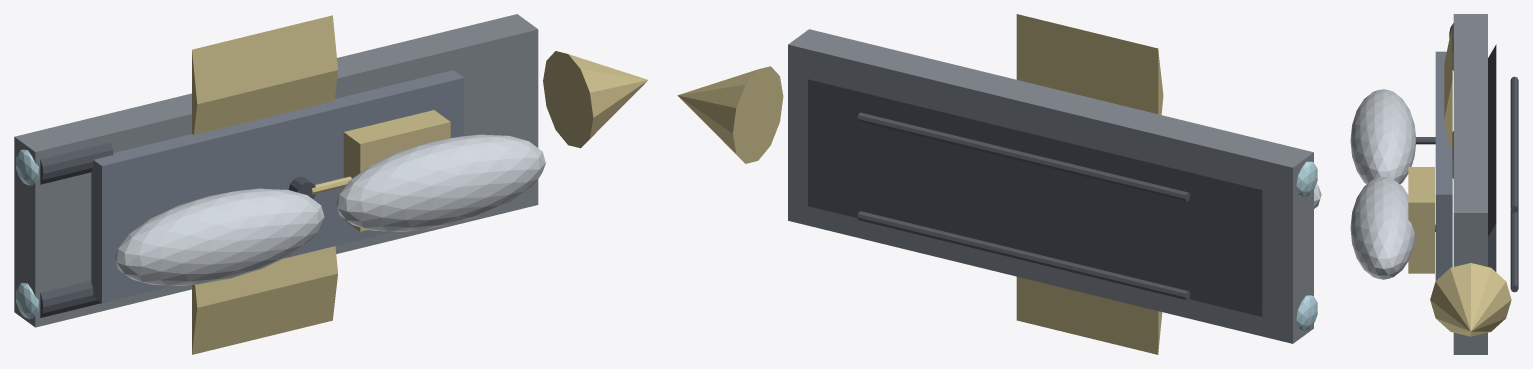
Rendered from SWS-003_dawn_courier.glb.
3 views of the same model, side by side, from view 1: azimuth 30°, elevation 25°; view 2: azimuth 150°, elevation 25°; view 3: azimuth 270°, elevation 25° (orthographic). The views are drawn at different scales.
Visible parts, largest first — view 1: main_hull, upper_deck, aether_lift_bladder_2, aether_lift_bladder_1, wing_1, wing_-1, aether_nose, bridge, engine_pod_1, engine_pod_-1, engine_glow_-1, engine_glow_1; view 2: keel, main_hull, wing_1, wing_-1, aether_nose, landing_skid_-1, landing_skid_1, engine_glow_-1, engine_glow_1; view 3: main_hull, aether_lift_bladder_2, aether_lift_bladder_1, aether_nose, upper_deck, bridge, keel, landing_skid_1, wing_1, landing_skid_-1, balloon_strut_1.
Part boxes in pixels (box(x1,y1,x2,y2)): main_hull: box(14, 14, 538, 327); upper_deck: box(91, 70, 463, 302); aether_lift_bladder_2: box(336, 134, 545, 231); aether_lift_bladder_1: box(115, 188, 324, 285); wing_1: box(192, 15, 337, 134); wing_-1: box(192, 246, 337, 354); aether_nose: box(543, 51, 647, 148); bridge: box(343, 110, 450, 231); engine_pod_1: box(40, 142, 113, 184); engine_pod_-1: box(40, 280, 105, 317); engine_glow_-1: box(16, 283, 38, 318); engine_glow_1: box(16, 149, 38, 185); keel: box(808, 79, 1267, 316); main_hull: box(788, 29, 1313, 343); wing_1: box(1016, 14, 1163, 114); wing_-1: box(1016, 276, 1162, 354); aether_nose: box(677, 66, 783, 163); landing_skid_-1: box(857, 211, 1190, 299); landing_skid_1: box(857, 112, 1190, 201); engine_glow_-1: box(1296, 295, 1317, 331); engine_glow_1: box(1296, 161, 1317, 197); main_hull: box(1453, 14, 1487, 354); aether_lift_bladder_2: box(1350, 176, 1414, 279); aether_lift_bladder_1: box(1350, 89, 1415, 184); aether_nose: box(1430, 263, 1511, 336); upper_deck: box(1435, 51, 1452, 280); bridge: box(1408, 167, 1434, 273); keel: box(1488, 44, 1496, 271); landing_skid_1: box(1510, 76, 1518, 212); wing_1: box(1444, 24, 1452, 146); landing_skid_-1: box(1510, 209, 1518, 292); balloon_strut_1: box(1416, 137, 1435, 144).
Size of the model in its own units: 18.83 by 8.7 by 5.36.
